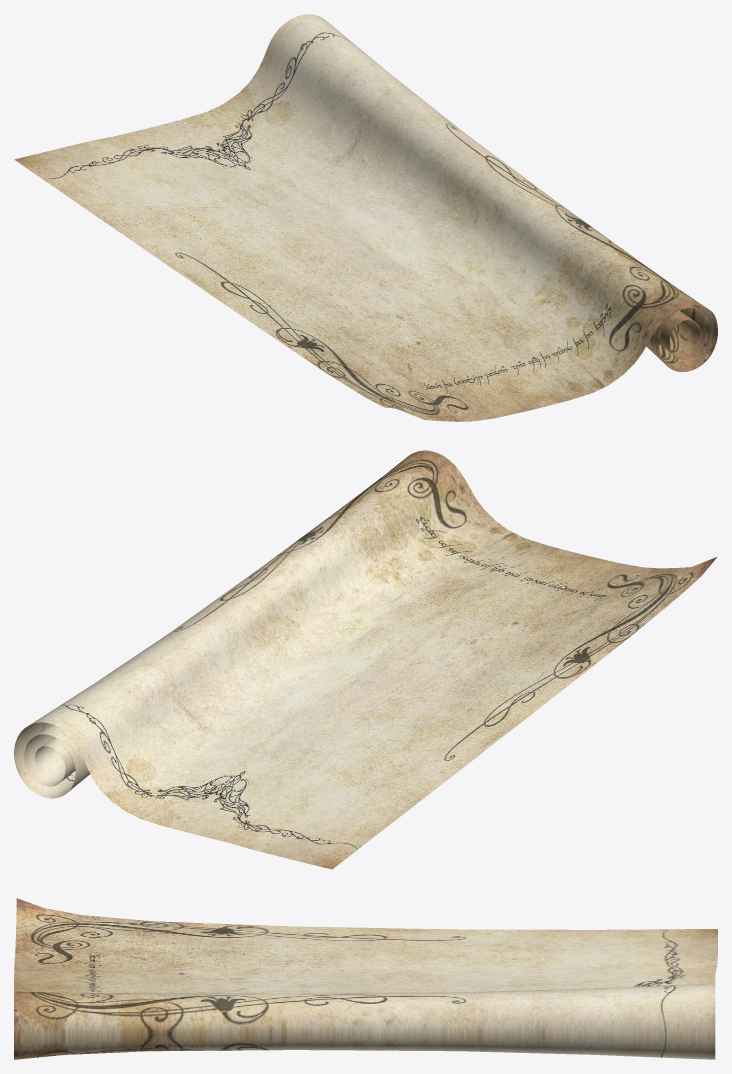
File: Scroll04.fbx
The picture shows the model from 3 angles, top to bottom: view 1: azimuth 30°, elevation 25°; view 2: azimuth 150°, elevation 25°; view 3: azimuth 270°, elevation 25°; orthographic projection. The views are drawn at different scales.
Visible parts, largest first — view 1: Plane005; view 2: Plane005; view 3: Plane005.
Part boxes in pixels (<box>): Plane005: <box>14,14,717,421</box>; Plane005: <box>14,450,717,869</box>; Plane005: <box>14,898,717,1059</box>.
Bounding box in the file's own units: 18.54 × 4.16 × 38.45.
1 material, 1 textured.
